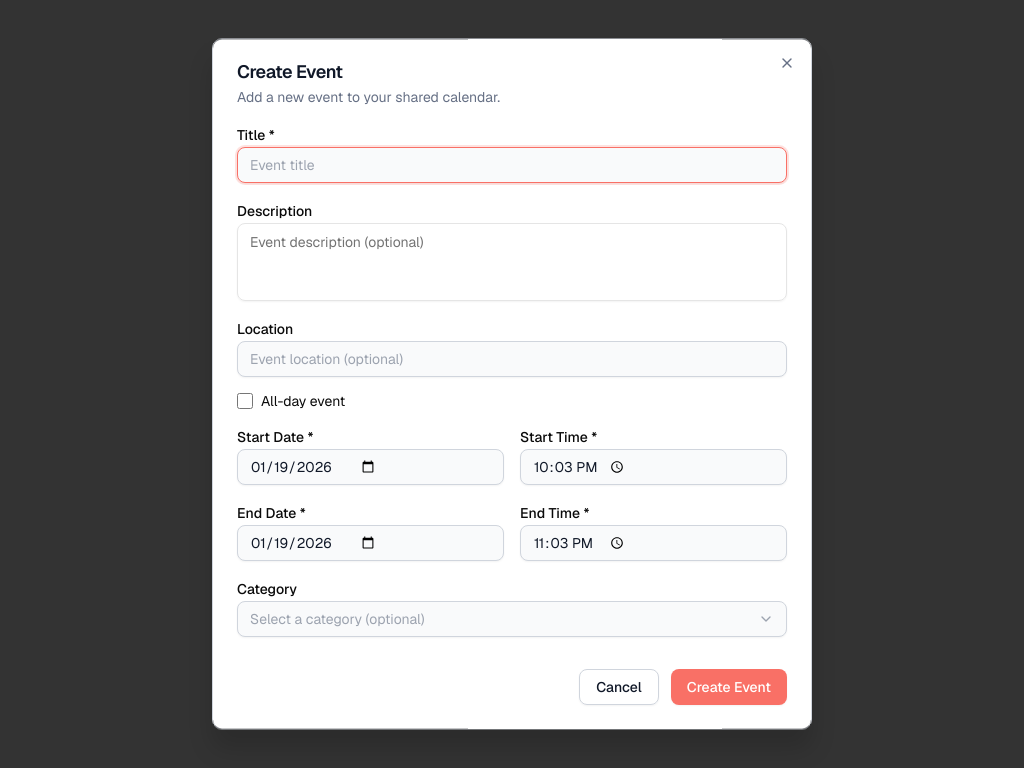
Test: EventModal Component › Form Validation › should require title field
Click the button "Create Event" at [729, 687], box left=671, top=669, right=787, bottom=705
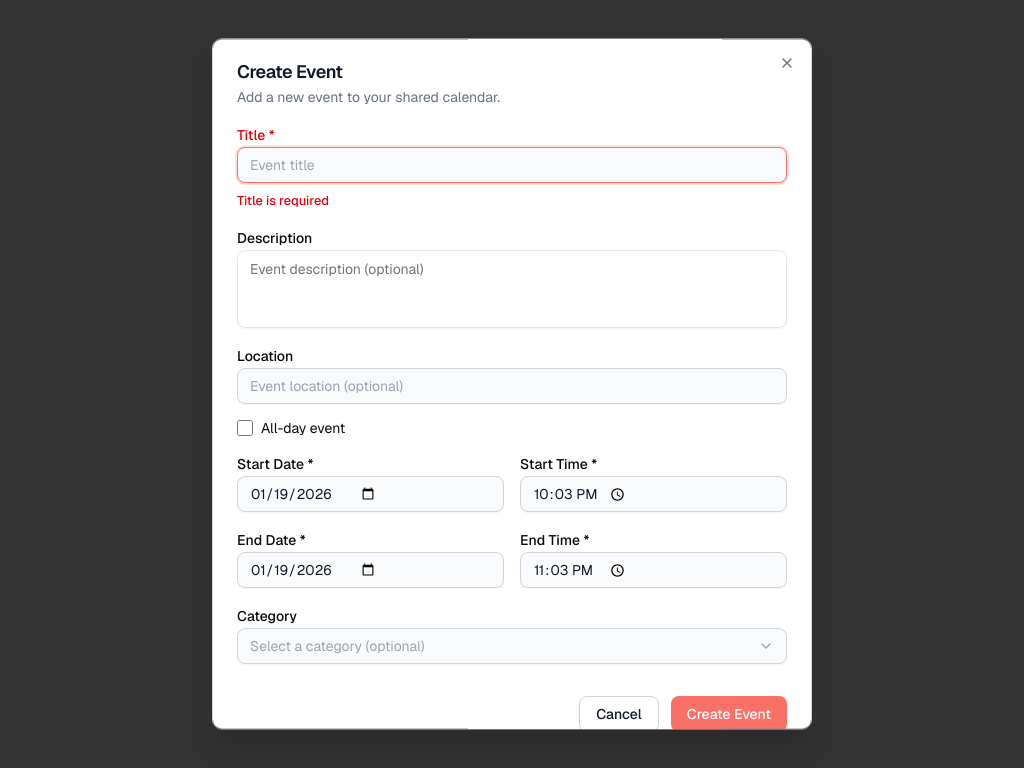
Now the text "Title is required" is shown, box left=237, top=192, right=329, bottom=209
